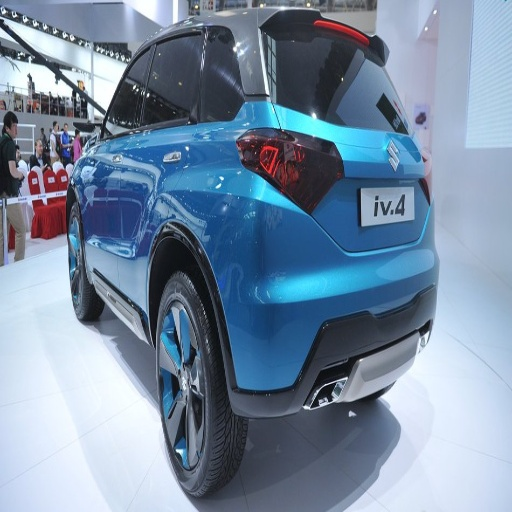back_bumper: (230, 201, 437, 418), (262, 205, 344, 259)
back_glass: (263, 22, 407, 131)
back_left_door: (121, 155, 155, 256)
back_left_light: (237, 134, 294, 193)
tailgate: (287, 128, 427, 250)
trunk: (210, 228, 413, 324), (280, 129, 358, 176)
